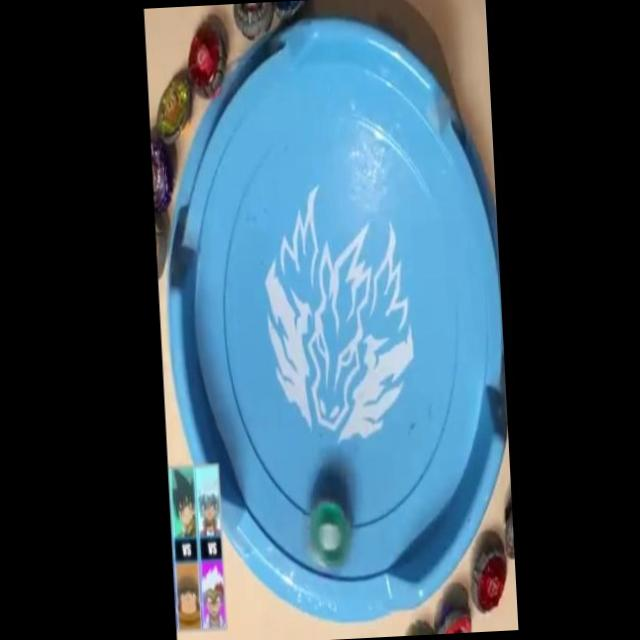Beyblade: (306, 499, 354, 571), (186, 24, 229, 100), (154, 76, 193, 145), (470, 549, 510, 614)
